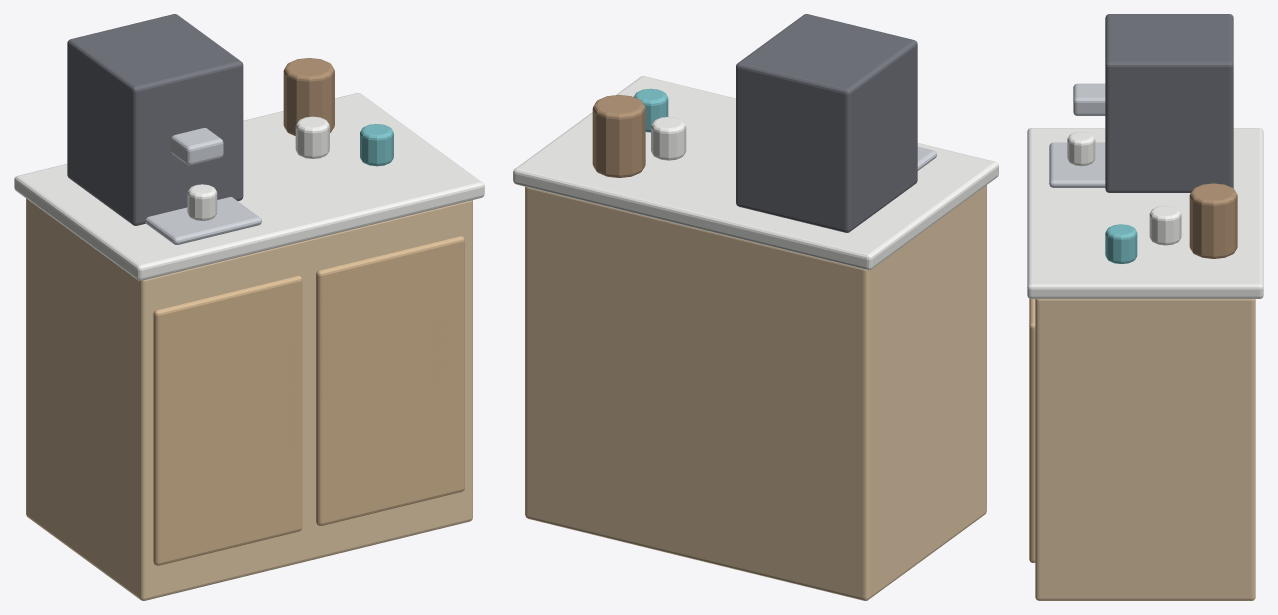
The model's file is CoffeeStation.fbx.
3 views of the same model, side by side, from view 1: azimuth 30°, elevation 25°; view 2: azimuth 150°, elevation 25°; view 3: azimuth 270°, elevation 25° (orthographic). The views are drawn at different scales.
Parts seen in each view (by area): view 1: CoffeeStation; view 2: CoffeeStation; view 3: CoffeeStation.
Part boxes in pixels (x1,y1,x2,y2): CoffeeStation: (14, 14, 484, 600); CoffeeStation: (513, 14, 998, 600); CoffeeStation: (1027, 14, 1263, 600).
Size of the model in its own units: 0.94 by 1.24 by 0.59.
